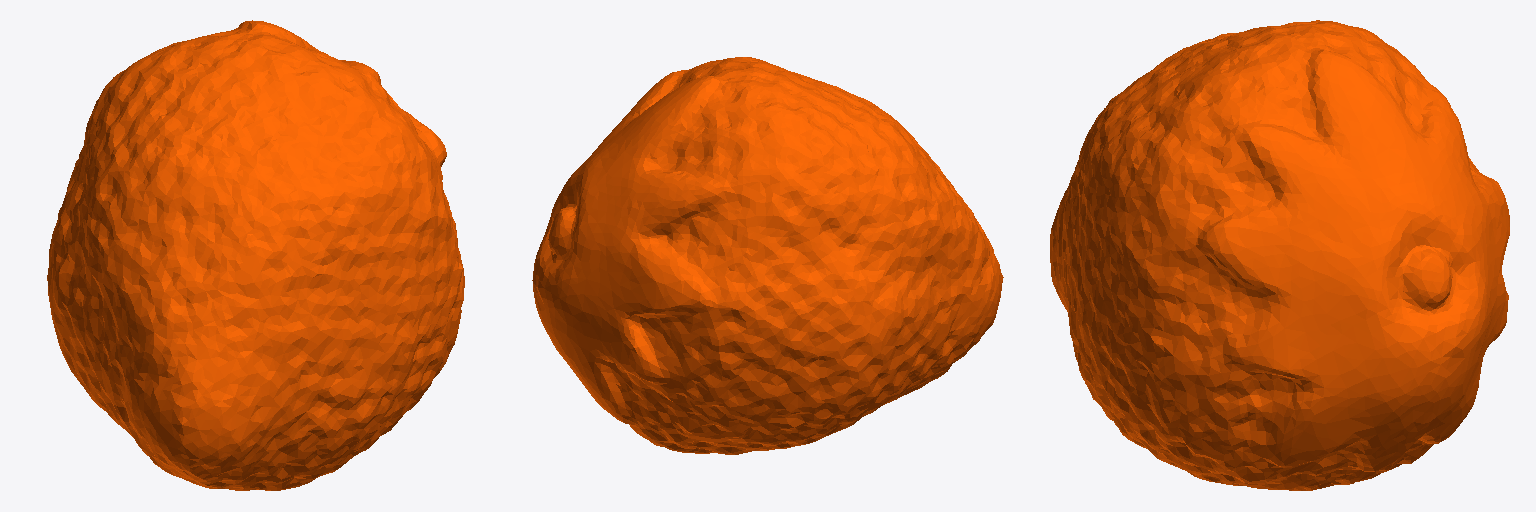
robot.urdf — 012_strawberry:
<?xml version="1.0" ?>
<robot name="012_strawberry">
   <material name="obj_color">
      <color rgba="1.0 0.423529411765 0.0392156862745 1.0"/>
   </material>
   <link name="top">
      <inertial>
         <origin rpy="1.781014560948789e-05 1.980797469784978e-05 2.184006053300717e-05" xyz="0.0005754372204367301 0.000796389947338295 -0.0008912961686050612"/>
         <mass value="0.09471396165354996"/>
         <inertia ixx="1.963195862298315e-05" ixy="-1.916569795807867e-06" ixz="-5.101467340857182e-08" iyy="2.003298844178132e-05" iyz="-5.861651692062971e-07" izz="1.979323377558038e-05"/>
      </inertial>
      <visual>
         <origin rpy="0 0 0" xyz="0 0 0"/>
         <geometry>
            <mesh filename="top_watertight_tiny.stl" scale="1 1 1"/>
         </geometry>
         <material name="obj_color"/>
      </visual>
      <collision>
         <origin rpy="0 0 0" xyz="0 0 0"/>
         <geometry>
            <mesh filename="top_watertight_tiny.obj" scale="1 1 1"/>
         </geometry>
      </collision>
   </link>
   <link name="bottom">
      <inertial>
         <origin rpy="1.633333333199431e-08 1.633333333199431e-08 1.633333333362855e-08" xyz="0.3464080000000008 0.3464080000000008 0.3464080000000008"/>
         <mass value="0.0009800000000000017"/>
         <inertia ixx="1.633333333253906e-08" ixy="5.447480642029219e-19" ixz="5.447480642029219e-19" iyy="1.633333333253906e-08" iyz="5.447480642029219e-19" izz="1.633333333253906e-08"/>
      </inertial>
      <visual>
         <origin rpy="0 0 0" xyz="0 0 0"/>
         <geometry>
            <mesh filename="bottom_watertight_tiny.stl" scale="1 1 1"/>
         </geometry>
         <material name="obj_color"/>
      </visual>
   </link>
   <joint name="rotation" type="revolute">
      <origin xyz="0 0 0"/>
      <axis xyz="0 0 -1"/>
      <parent link="bottom"/>
      <child link="top"/>
      <dynamics damping="1.0" friction="1.0"/>
      <limit effort="0.1" velocity="0.1" lower="0" upper="0.001"/>
   </joint>
</robot>

--- What the picture shows (computed from the rendered views, not written in the file) ---
Views: 3 orthographic renders of the robot side by side, from view 1: azimuth 30°, elevation 25°; view 2: azimuth 150°, elevation 25°; view 3: azimuth 270°, elevation 25°.
Robot: 012_strawberry — 2 links, 1 joints (1 revolute); root link bottom; default pose: all joints at 0.
Visible links, largest first — view 1: top; view 2: top; view 3: top.
Boxes of the visible links, left/top/right/bottom form: top: left=47, top=20, right=464, bottom=490; top: left=532, top=57, right=1003, bottom=454; top: left=1050, top=20, right=1509, bottom=490.
Size in the robot's own frame: 0.0452 by 0.0453 by 0.0457 metres.
Meshes: 2 distinct files referenced, 1 mesh visuals loaded (1 binary STL); not drawn: 1 (reference not matched to a file when rendering).
